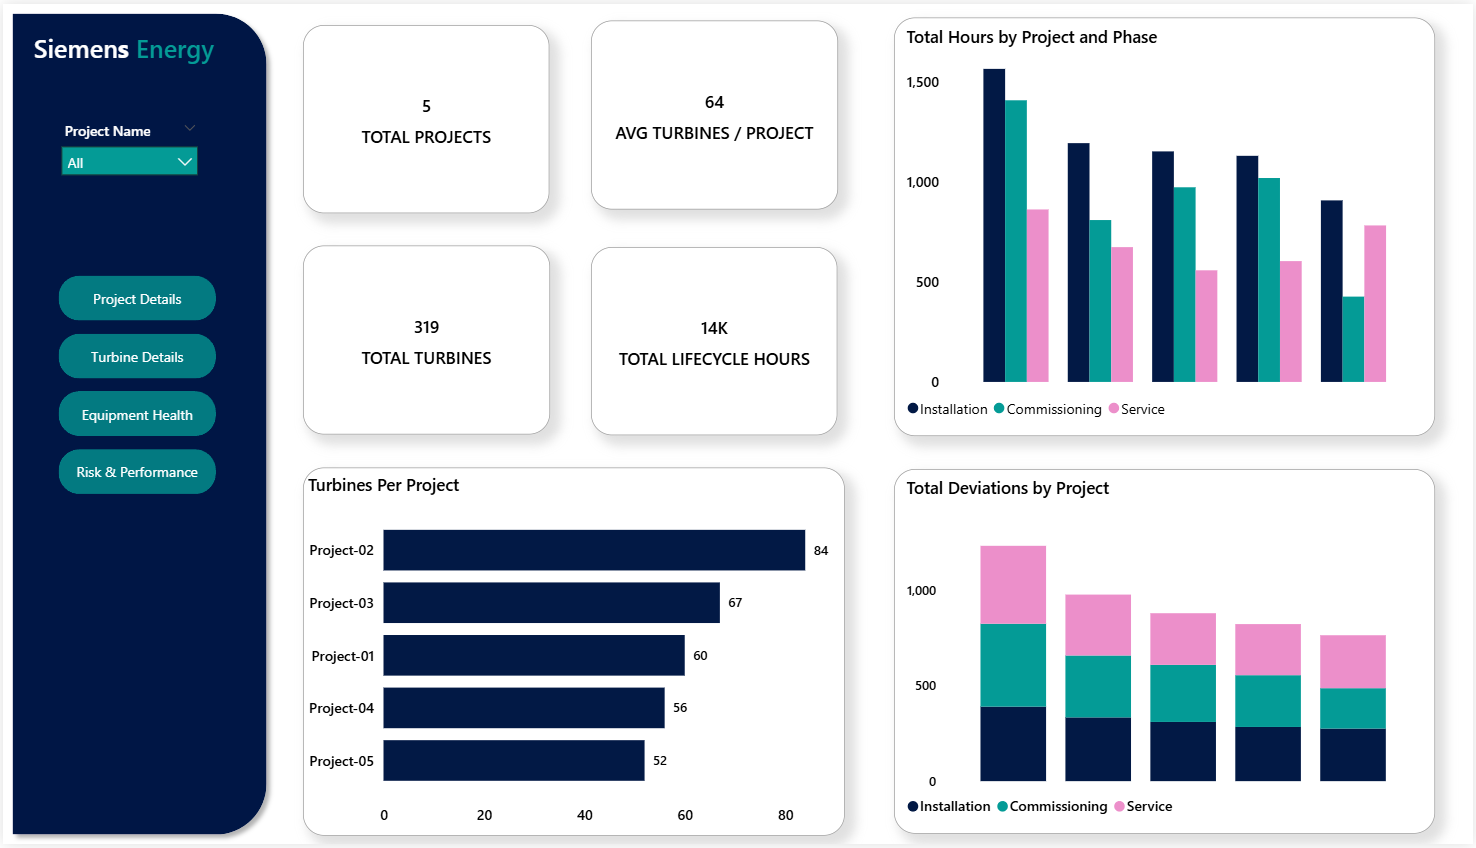

Layout of this report page (visuals, bound fields, positions):
{"tool":"powerbi","page":{"name":"Portfolio Overview","canvas":[1400,800],"ordinal":0},"visuals":[{"type":"card","fields":{"Values":["_Measure.KPI Total Projects"]},"box":[285.7,20.6,234.9,179.4],"z":0},{"type":"card","fields":{"Values":["_Measure.KPI Total Turbines"]},"box":[285.7,229.9,235,180],"z":1000},{"type":"card","fields":{"Values":["_Measure.KPI Avg Turbines per Project"]},"box":[560.3,15.6,235,180],"z":2000},{"type":"card","fields":{"Values":["_Measure.Hours Lifecycle"]},"box":[560.3,231.7,234.9,179.4],"z":3000},{"type":"card","fields":{"Values":["_Measure.Health Failure Rate %"]},"box":[1530.2,157.1,212.7,101.6],"z":4000},{"type":"clusteredBarChart","title":"Turbines Per Project","fields":{"Category":["Mapping_Projects.Project_Name"],"Y":["Sum(Mapping_Projects.Number_Of_Turbines)"]},"box":[285.7,441.3,515.9,350.8],"z":5000},{"type":"clusteredColumnChart","title":"Total Hours by Project and Phase","fields":{"Category":["Mapping_Projects.Project_Name"],"Y":["_Measure.Hours Installation","_Measure.Hours Commissioning","_Measure.Hours Service"]},"box":[849.2,12.7,515,398.4],"z":6000},{"type":"shape","box":[0,0,260,800],"z":7000},{"type":"textbox","box":[24.6,20.3,215.9,59.4],"z":8000},{"type":"slicer","fields":{"Values":["Mapping_Projects.Project_Name","Mapping_Turbines.Turbine_ID"]},"box":[45.8,106.2,150,70],"z":9000},{"type":"pageNavigator","box":[53.1,258.3,150,209.4],"z":10000},{"type":"columnChart","title":"Total Deviations by Project","fields":{"Category":["Mapping_Projects.Project_Name"],"Y":["_Measure.Deviation Installation","_Measure.Deviation Commissioning","_Measure.Deviation Service"]},"box":[849.2,442.9,515,347.6],"z":11000}]}

Visuals, with their boxes in screenshot pixels (x1, y1, x2, y2), scaled from the page's 1400x800 canvas onto the 1476x848 screenshot:
card - _Measure.KPI Total Projects: 301/22/549/212
card - _Measure.KPI Total Turbines: 301/244/549/434
card - _Measure.KPI Avg Turbines per Project: 591/17/838/207
card - _Measure.Hours Lifecycle: 591/246/838/436
"Turbines Per Project" clusteredBarChart: 301/468/845/840
"Total Hours by Project and Phase" clusteredColumnChart: 895/13/1438/436
shape: 0/0/274/847
textbox: 26/22/254/84
slicer - Mapping_Projects.Project_Name x Mapping_Turbines.Turbine_ID: 48/113/206/187
pageNavigator: 56/274/214/496
"Total Deviations by Project" columnChart: 895/469/1438/838
